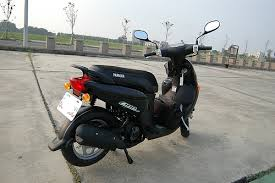motorcycle: (47, 18, 225, 169)
